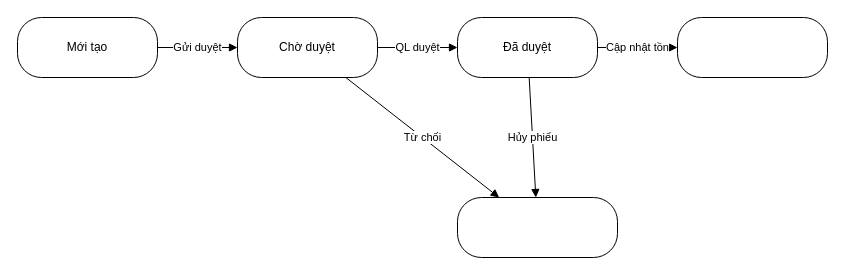
Some shapes in this 845 by 275 pixel diagram are drawn without their labels. The centre of each missing label's shape, as x and y in pixels:
"Hủy / Từ chối" goes at point 537,227.
"Đã nhập kho" goes at point 752,47.
